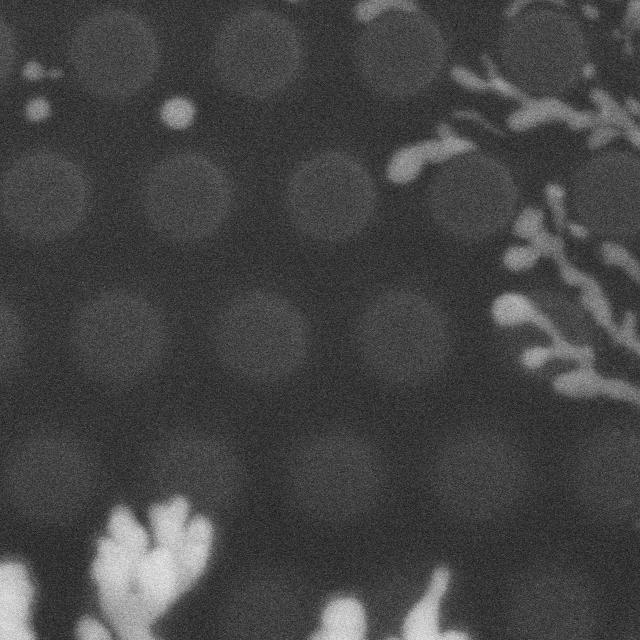Dendrite: (386, 54, 640, 184), (504, 179, 640, 373), (76, 497, 213, 640), (454, 68, 640, 153), (573, 0, 640, 48), (354, 0, 417, 22), (160, 96, 195, 129), (22, 59, 61, 81), (503, 0, 545, 18), (24, 96, 51, 123)
